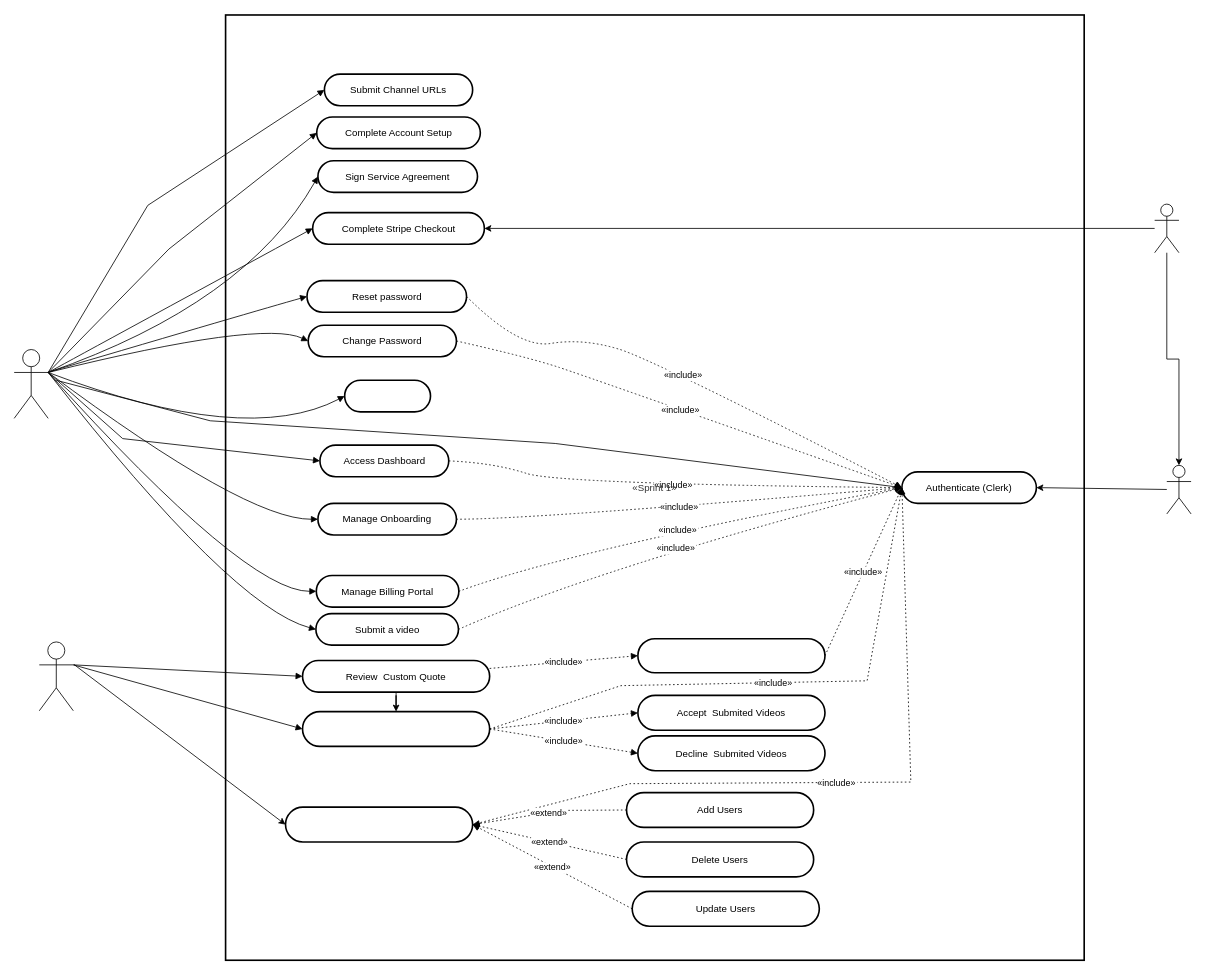
The diagram is 1205 pixels wide and 974 high, and some of its shapes have lost their labels. The centre of each missing label's shape, as x and y in pixels:
Admin: the point at 55,676
Clerk: the point at 1178,489
Manage Users: the point at 378,824
Review Submited Videos: the point at 395,728
Select Plan: the point at 387,395
Stripe: the point at 1166,228
Submit a custom price: the point at 731,655
User: the point at 30,383
